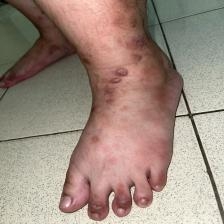DA: (96, 53, 170, 112)
